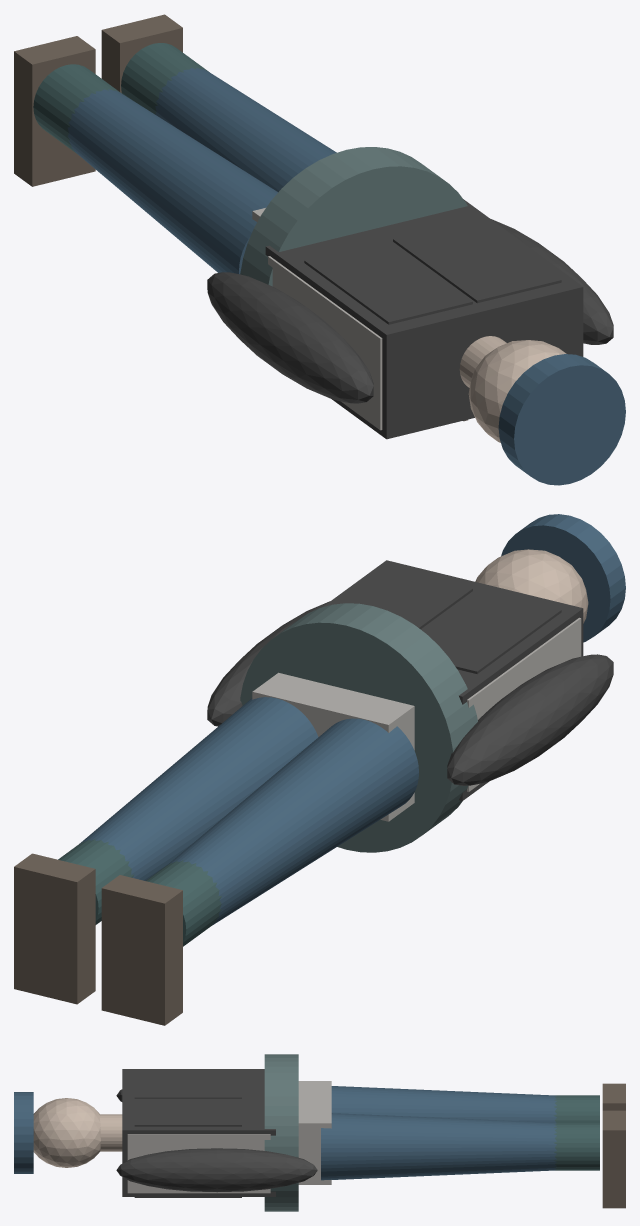
Rendered from MASTER_124_STAGE3_DETAIL.glb.
3 renders of one model, top to bottom at view 1: azimuth 30°, elevation 25°; view 2: azimuth 150°, elevation 25°; view 3: azimuth 270°, elevation 25°, orthographic. The views are drawn at different scales.
Visible parts, largest first — view 1: slot_upper_inner__këmishë, slot_lower_main__pantallona_L, slot_waist__brez, slot_headwear__mbulesë_koke, slot_upper_inner_sleeve_L, slot_lower_main__pantallona_R, slot_upper_outer__jelek/xhamadan_R, slot_upper_outer__jelek/xhamadan_L, slot_footwear__opinga_L, mannequin_torso, mannequin_head, slot_legwear__çorape_L (+4 smaller); view 2: slot_lower_main__pantallona_L, slot_waist__brez, slot_lower_main__pantallona_R, slot_footwear__opinga_R, slot_footwear__opinga_L, slot_upper_inner_sleeve_L, slot_upper_outer__jelek/xhamadan_L, slot_headwear__mbulesë_koke, mannequin_hips, slot_upper_inner__këmishë, mannequin_head, slot_upper_outer__jelek/xhamadan_R (+4 smaller); view 3: slot_lower_main__pantallona_R, slot_upper_inner_sleeve_R, slot_lower_main__pantallona_L, slot_upper_inner__këmishë, slot_waist__brez, mannequin_head, slot_upper_outer__jelek/xhamadan_R, mannequin_torso, slot_upper_outer__jelek/xhamadan_L, mannequin_hips, slot_footwear__opinga_R, slot_legwear__çorape_R (+4 smaller).
Boxes of the visible parts, box(x1,y1,x2,y2) form: slot_upper_inner__këmishë: box(265, 199, 583, 439); slot_lower_main__pantallona_L: box(67, 89, 277, 274); slot_waist__brez: box(240, 147, 467, 286); slot_headwear__mbulesë_koke: box(498, 354, 625, 485); slot_upper_inner_sleeve_L: box(207, 272, 373, 403); slot_lower_main__pantallona_R: box(155, 68, 336, 192); slot_upper_outer__jelek/xhamadan_R: box(393, 218, 561, 303); slot_upper_outer__jelek/xhamadan_L: box(304, 240, 472, 324); slot_footwear__opinga_L: box(14, 36, 95, 186); mannequin_torso: box(268, 256, 382, 430); mannequin_head: box(468, 340, 566, 442); slot_legwear__çorape_L: box(33, 64, 121, 154); slot_lower_main__pantallona_L: box(167, 718, 418, 925); slot_waist__brez: box(240, 603, 477, 852); slot_lower_main__pantallona_R: box(79, 697, 318, 880); slot_footwear__opinga_R: box(14, 853, 95, 1004); slot_footwear__opinga_L: box(101, 875, 182, 1025); slot_upper_inner_sleeve_L: box(447, 654, 613, 785); slot_upper_outer__jelek/xhamadan_L: box(422, 589, 561, 673); slot_headwear__mbulesë_koke: box(501, 514, 625, 642); mannequin_hips: box(252, 672, 414, 821); slot_upper_inner__këmishë: box(322, 560, 583, 800); mannequin_head: box(475, 549, 588, 623); slot_upper_outer__jelek/xhamadan_R: box(340, 568, 472, 629); slot_lower_main__pantallona_R: box(321, 1113, 556, 1180); slot_upper_inner_sleeve_R: box(116, 1148, 317, 1192); slot_lower_main__pantallona_L: box(331, 1086, 556, 1122); slot_upper_inner__këmishë: box(122, 1069, 275, 1196); slot_waist__brez: box(264, 1054, 298, 1211); mannequin_head: box(33, 1098, 100, 1167); slot_upper_outer__jelek/xhamadan_R: box(134, 1098, 241, 1197); mannequin_torso: box(127, 1134, 270, 1193); slot_upper_outer__jelek/xhamadan_L: box(134, 1071, 241, 1098); mannequin_hips: box(298, 1081, 331, 1184); slot_footwear__opinga_R: box(602, 1110, 625, 1208); slot_legwear__çorape_R: box(554, 1122, 599, 1170).
Bounding box in the file's own units: 0.6161 × 0.44 × 1.71.
